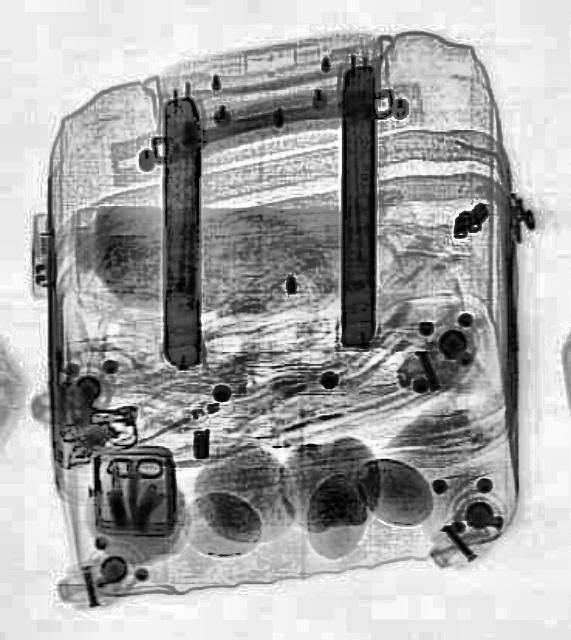Scissors: (99, 452, 162, 524)
